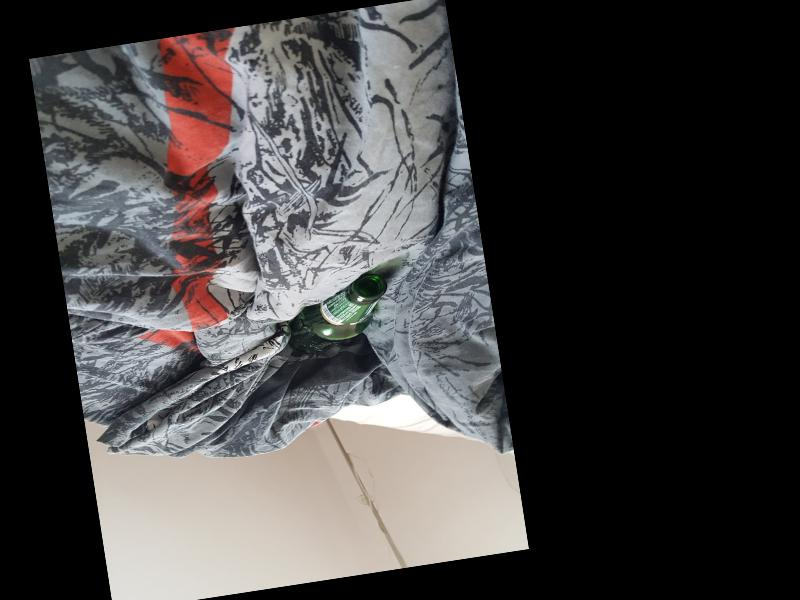Beer: (278, 270, 396, 357)
